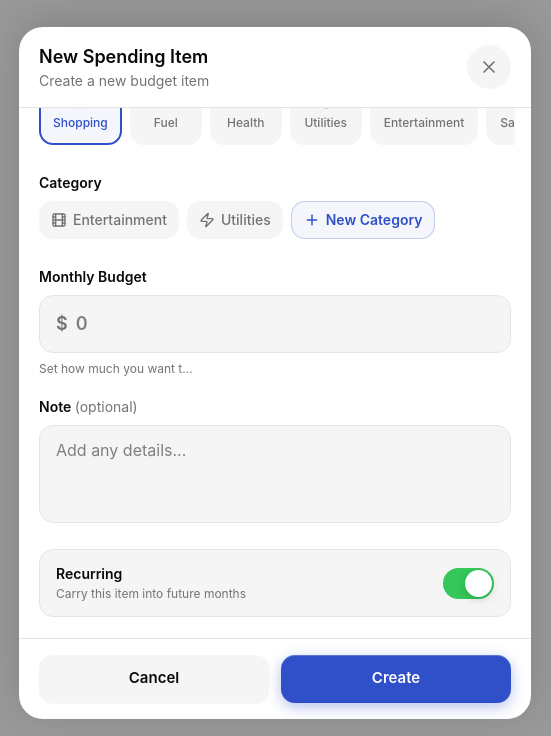
SpendingItemEditPopin — recurring toggle › defaults ON with the carry-forward copy and flips copy when toggled
(page scrolled)
Expected: the text "Carry this item into future months" is shown, x1=56 y1=586 x2=246 y2=602
Click the switch named "Recurring" at (468, 583), box x1=443 y1=568 x2=494 y2=599
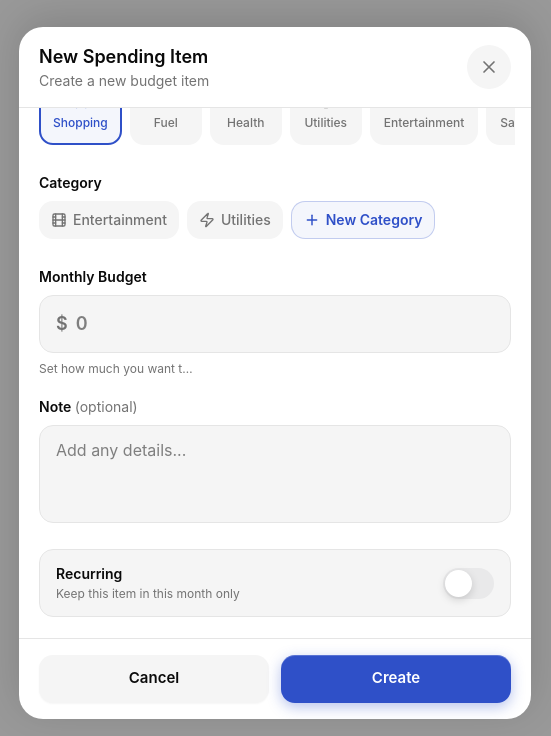
Now the text "Keep this item in this month only" is shown, box x1=56 y1=586 x2=240 y2=602
